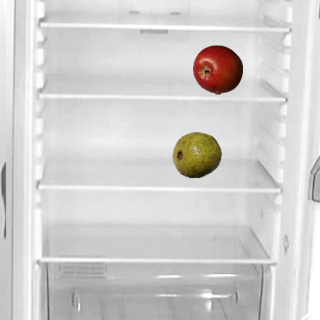Apple Braeburn: (192, 44, 242, 94)
Guava: (171, 129, 221, 179)
